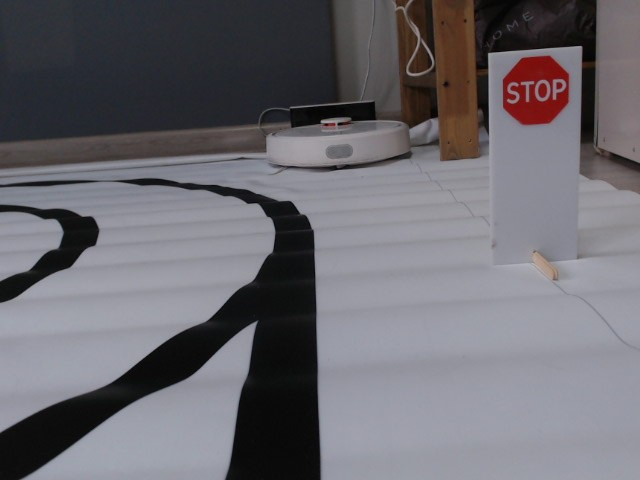Stop: (498, 55, 570, 127)
